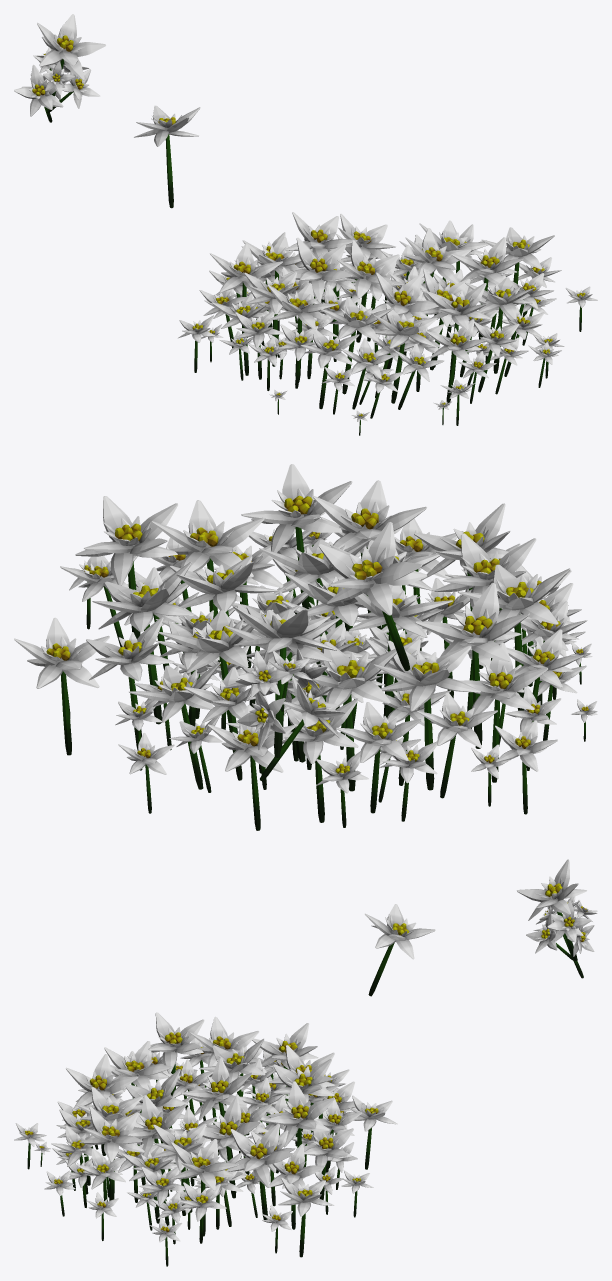
File: Optiedel.fbx
3 views of the same model, one above another, from view 1: azimuth 30°, elevation 25°; view 2: azimuth 150°, elevation 25°; view 3: azimuth 270°, elevation 25° (orthographic). The views are drawn at different scales.
Parts seen in each view (by area): view 1: Paint1, Paint, Paint2; view 2: Paint1, Paint, Paint2; view 3: Paint1, Paint, Paint2.
Boxes of the visible parts, x1,y1,x2,y2 form: Paint1: (178, 212, 597, 435); Paint: (14, 14, 105, 122); Paint2: (134, 105, 200, 208); Paint1: (14, 464, 597, 830); Paint: (223, 606, 345, 781); Paint2: (318, 522, 426, 670); Paint1: (14, 1012, 397, 1266); Paint: (517, 859, 597, 978); Paint2: (365, 904, 435, 996).
Bounding box in the file's own units: 1.86 × 1.22 × 2.5.
